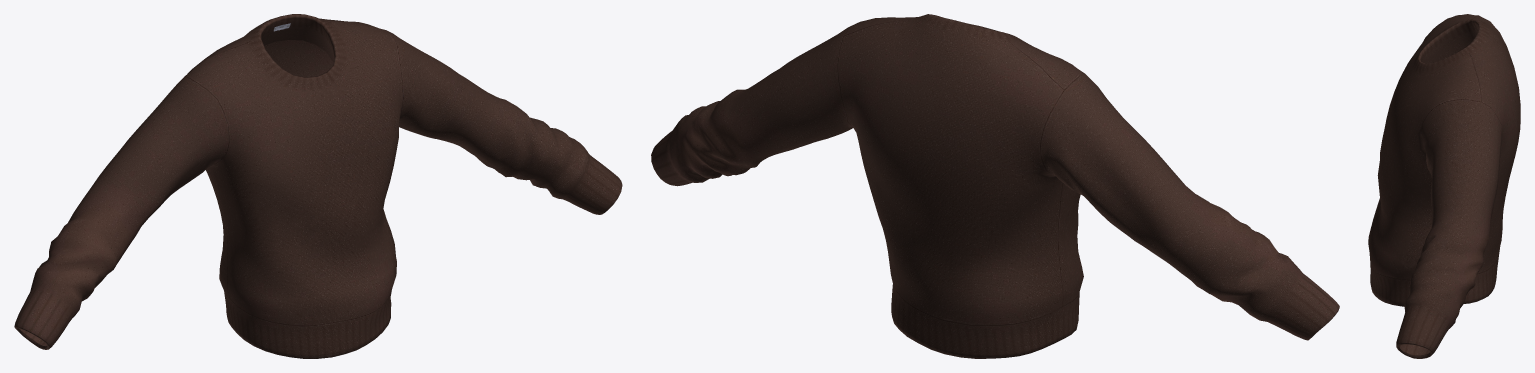
Rendered from sweater.glb.
The picture shows the model from 3 angles, left to right: view 1: azimuth 30°, elevation 25°; view 2: azimuth 150°, elevation 25°; view 3: azimuth 270°, elevation 25°; orthographic projection. The views are drawn at different scales.
Parts seen in each view (by area): view 1: Sweater_low; view 2: Sweater_low; view 3: Sweater_low.
Boxes of the visible parts, x1,y1,x2,y2 form: Sweater_low: (14,14,622,358); Sweater_low: (651,14,1339,358); Sweater_low: (1368,14,1520,358).
Size of the model in its own units: 5.53 by 2.58 by 1.37.
1 material, 1 textured.
